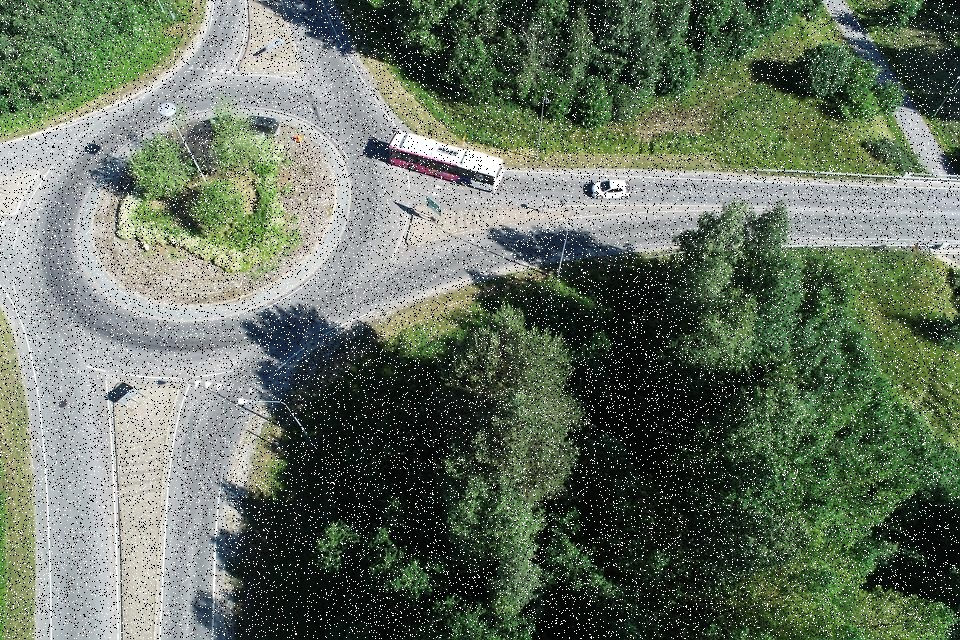roundabout: (0, 0, 489, 423)
